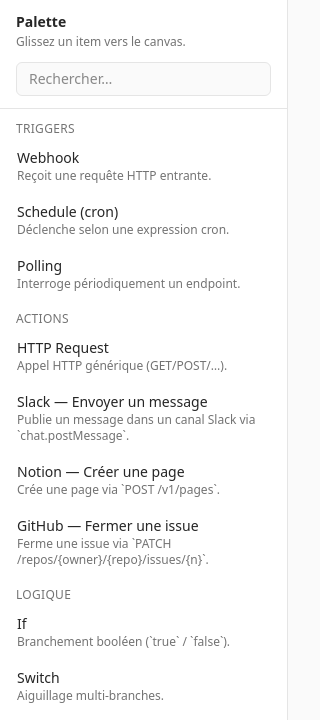
Test: <Palette /> › shows a no-result message when nothing matches
In the search field labelled "Rechercher…": [144, 79] box [16,62,271,96], type "zzz-not-a-node"
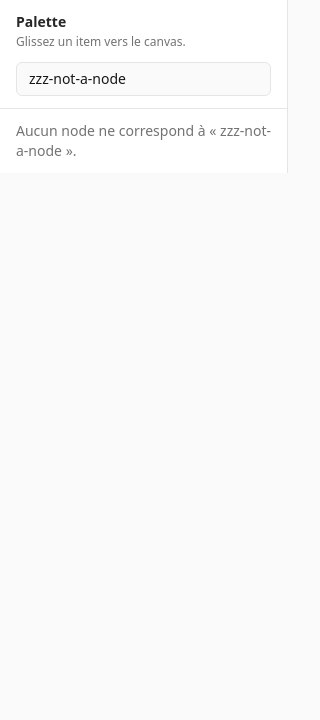
Now the message shows "Aucun node", box [16,121,220,140]
